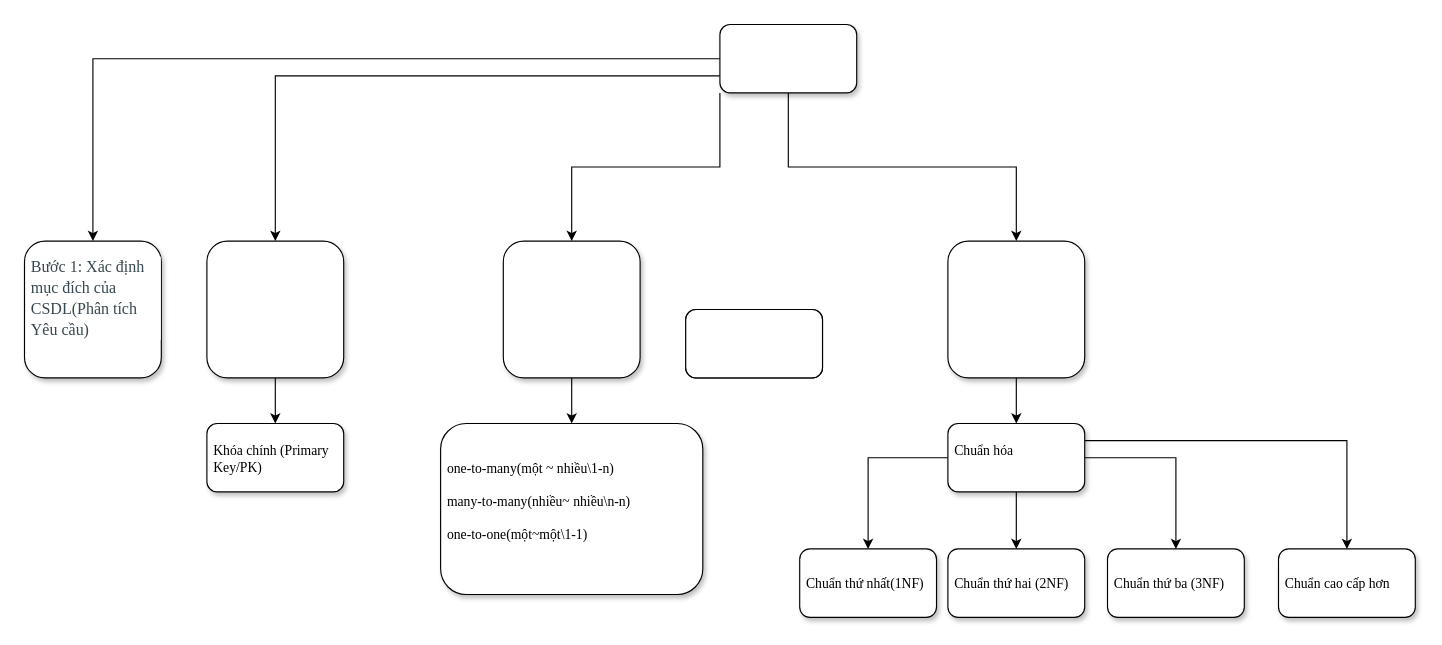
This 1442x645 diagram has some shape labels left out. Each missing label, with the centre of its shape:
Bước 2: Tập hợp Dữ liệu, Tổ chức các bảng và Chỉ định các khóa chính: point (276, 310)
Quy trình thiết kế CSDL quan hệ: point (789, 60)
Step 3: Tạo mối quan hệ giữa các bảng: point (572, 310)
Step 4: Tinh chỉnh và chuẩn hóa thiết kế: point (1017, 310)
